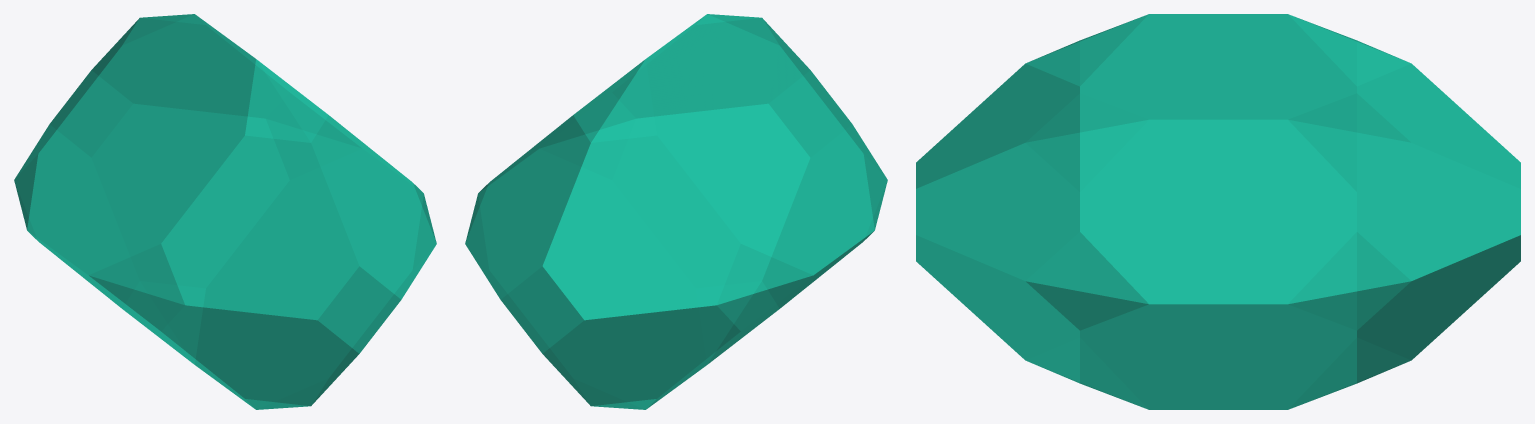
The picture shows the model from 3 angles, left to right: view 1: azimuth 30°, elevation 25°; view 2: azimuth 150°, elevation 25°; view 3: azimuth 270°, elevation 25°; orthographic projection. The views are drawn at different scales.
Parts seen in each view (by area): view 1: SM_BO_Emerald_LOD0; view 2: SM_BO_Emerald_LOD0; view 3: SM_BO_Emerald_LOD0.
Part boxes in pixels (<box>): SM_BO_Emerald_LOD0: <box>14,14,436,409</box>; SM_BO_Emerald_LOD0: <box>465,14,887,409</box>; SM_BO_Emerald_LOD0: <box>916,14,1520,409</box>.
Bounding box in the file's own units: 0.2321 × 0.2321 × 0.3212.
